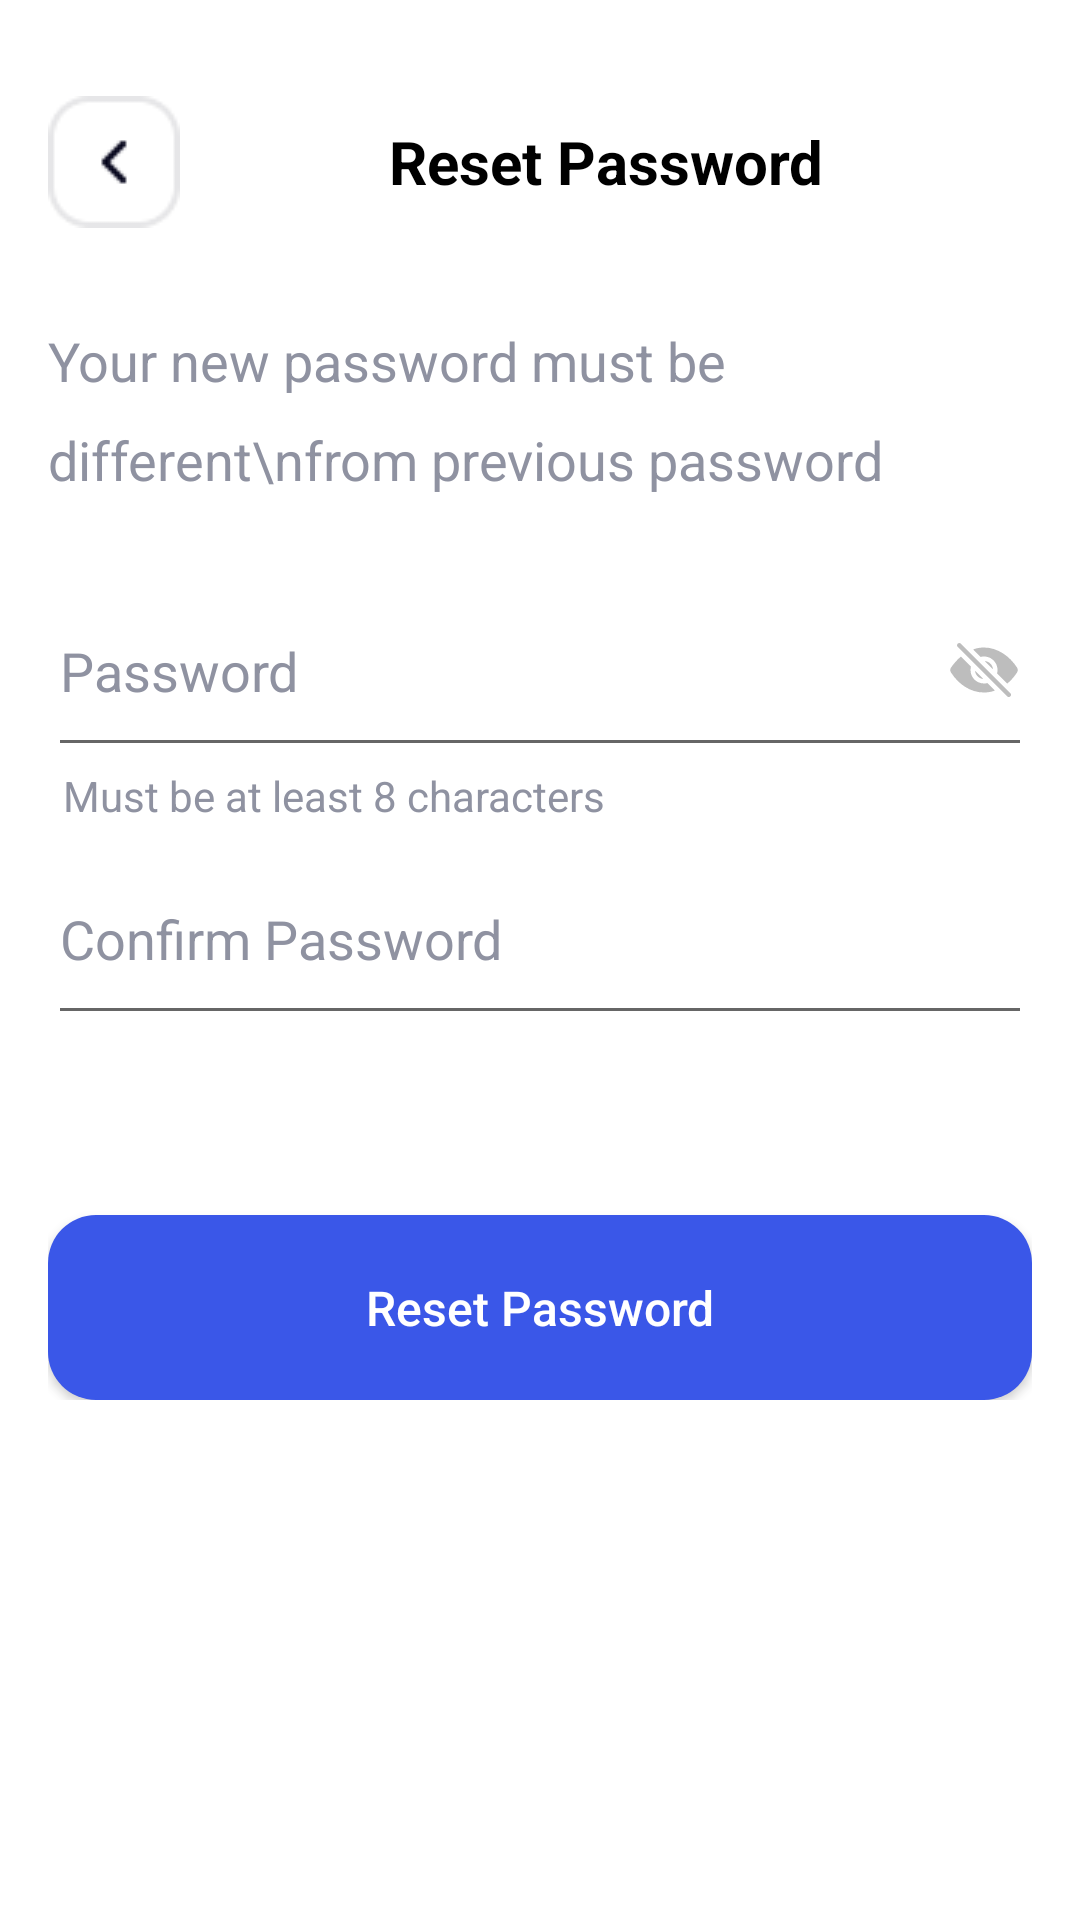

Screen size 1080*1920. Icon name, then its center in pixels as (x=x, y=y):
back arrow: (x=114, y=162)
